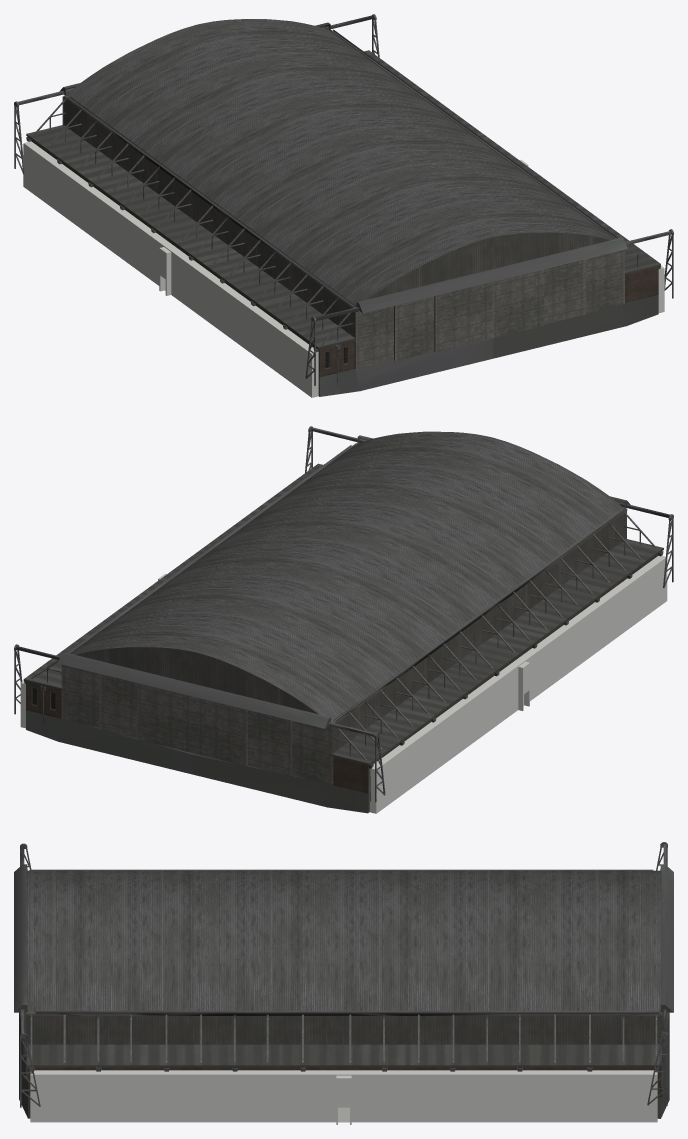
Rendered from hangar-j.zfix-v17.lod0.glb.
3 renders of one model, top to bottom at view 1: azimuth 30°, elevation 25°; view 2: azimuth 150°, elevation 25°; view 3: azimuth 270°, elevation 25°, orthographic. The views are drawn at different scales.
Parts seen in each view (by area): view 1: Object_2, Walkable floors and stairs; view 2: Object_2, Walkable floors and stairs; view 3: Object_2, Walkable floors and stairs (×2).
Boxes of the visible parts, x1,y1,x2,y2 form: Object_2: (14,14,673,396); Walkable floors and stairs: (23,141,664,397); Object_2: (14,426,673,813); Walkable floors and stairs: (20,555,667,813); Object_2: (14,842,673,1118); Walkable floors and stairs (×2): (30,1070,657,1124).
Size of the model in its own units: 61.89 by 19.31 by 89.88.
3 materials, 1 textured.
